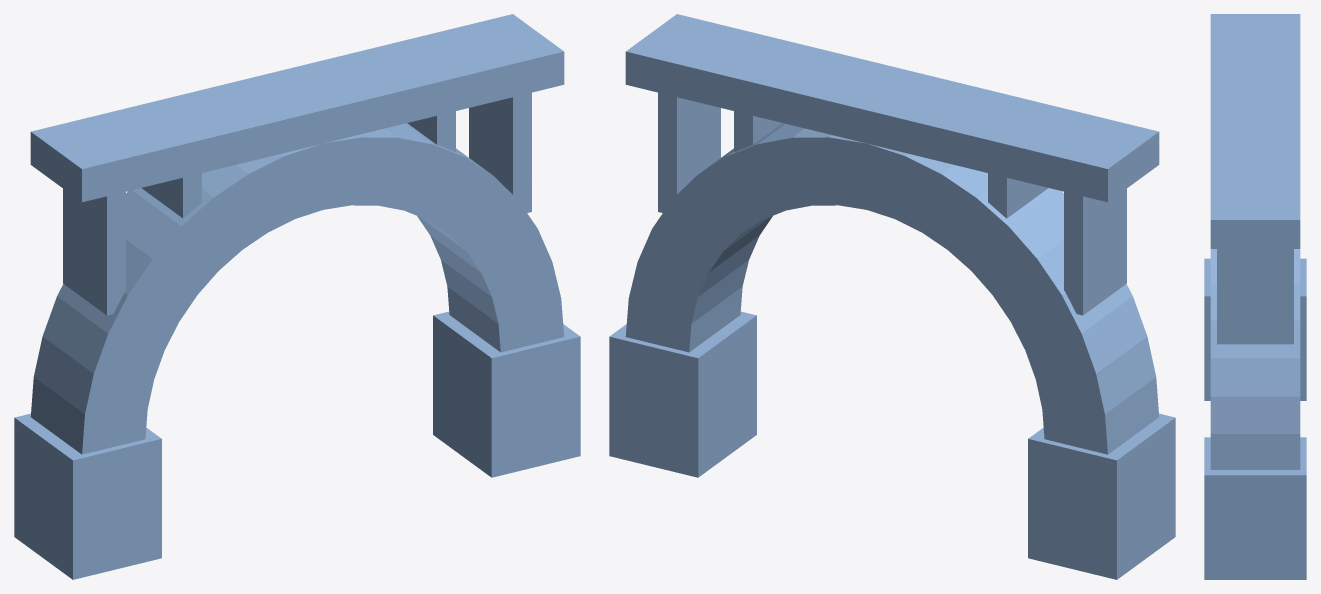
Rendered from arch.glb.
3 views of the same model, side by side, from view 1: azimuth 30°, elevation 25°; view 2: azimuth 150°, elevation 25°; view 3: azimuth 270°, elevation 25° (orthographic). The views are drawn at different scales.
Parts seen in each view (by area): view 1: arch; view 2: arch; view 3: arch.
Part boxes in pixels (x1,y1,x2,y2): arch: (14, 14, 580, 579); arch: (609, 14, 1175, 579); arch: (1204, 14, 1306, 579).
Size of the model in its own units: 80 by 61 by 16.
